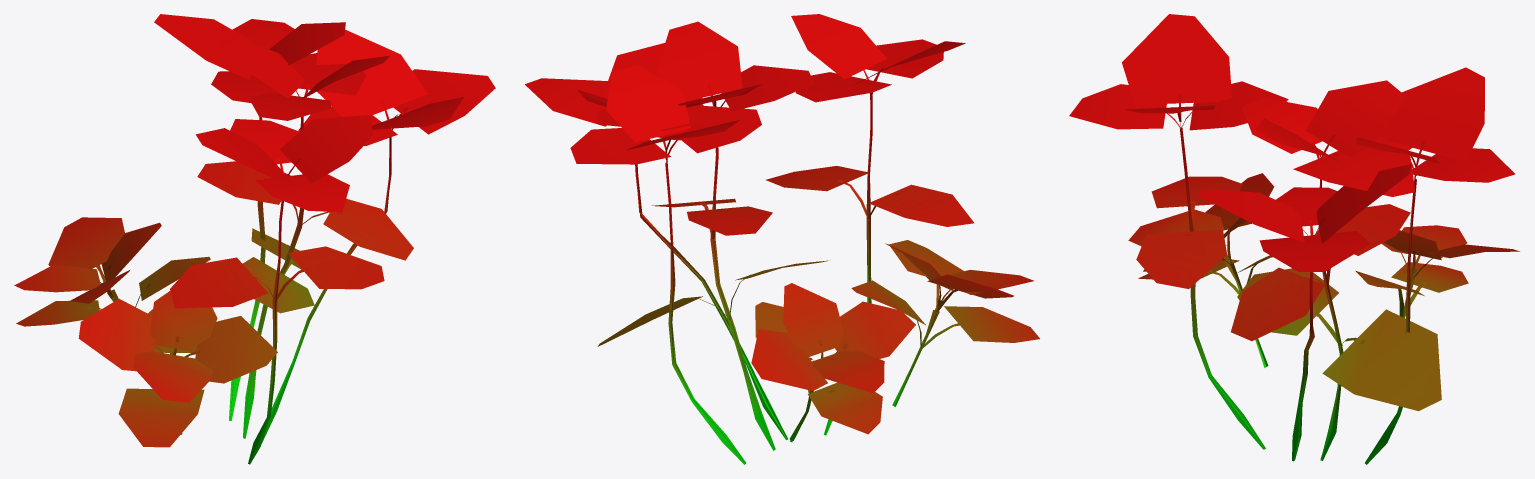
The model's file is vegetation_5.fbx.
3 views of the same model, side by side, from view 1: azimuth 30°, elevation 25°; view 2: azimuth 150°, elevation 25°; view 3: azimuth 270°, elevation 25° (orthographic). The views are drawn at different scales.
Visible parts, largest first — view 1: f:_ydgd_Var6; view 2: f:_ydgd_Var6; view 3: f:_ydgd_Var6.
Part boxes in pixels (x1,y1,x2,y2): f:_ydgd_Var6: [14, 14, 495, 464]; f:_ydgd_Var6: [525, 14, 1039, 464]; f:_ydgd_Var6: [1069, 14, 1519, 464].
Bounding box in the file's own units: 10.07 × 8.11 × 8.54.
